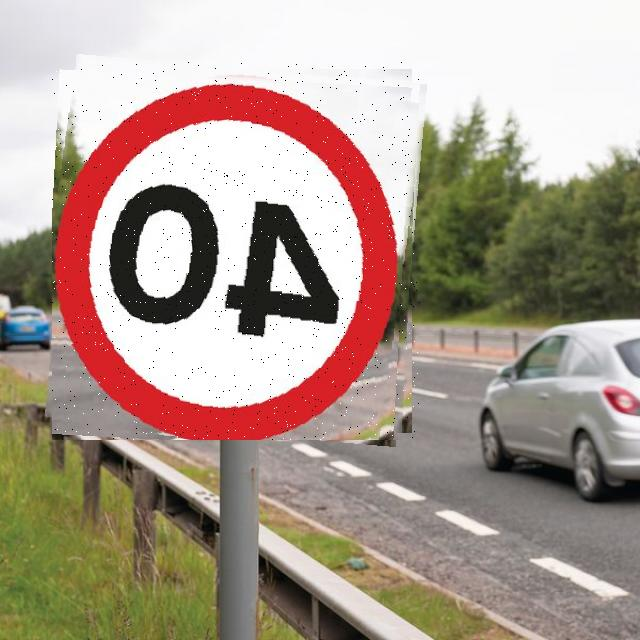speed limit 40: (52, 62, 420, 440)
